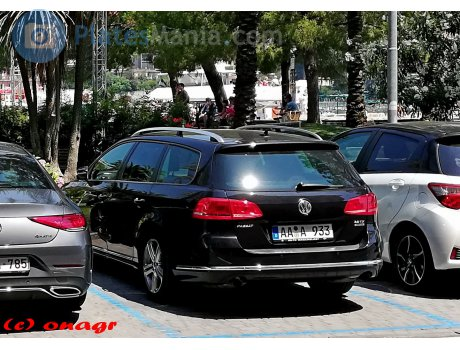License Plates: (275, 221, 333, 235)
